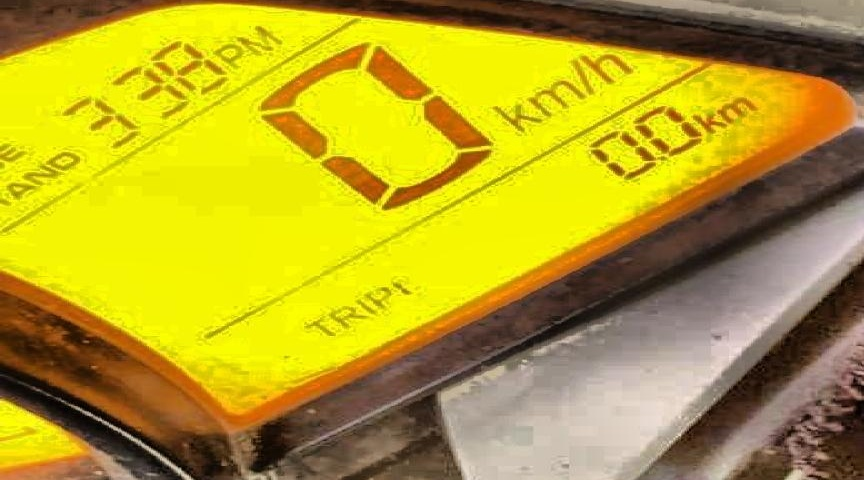-: (651, 152, 666, 163)
0: (248, 38, 495, 211), (628, 102, 702, 156), (584, 127, 655, 178)
1: (386, 278, 406, 294)
3: (58, 94, 140, 149), (107, 63, 189, 117)
8: (144, 38, 228, 94)
X: (524, 78, 586, 115), (575, 48, 633, 82), (233, 25, 282, 55), (491, 102, 540, 129), (713, 94, 755, 122), (209, 42, 247, 67), (566, 58, 593, 93), (324, 304, 364, 327), (686, 111, 726, 132), (17, 163, 55, 183), (302, 316, 337, 336), (362, 284, 391, 308), (44, 151, 79, 170), (2, 179, 33, 198), (351, 297, 375, 317), (0, 142, 22, 161)
